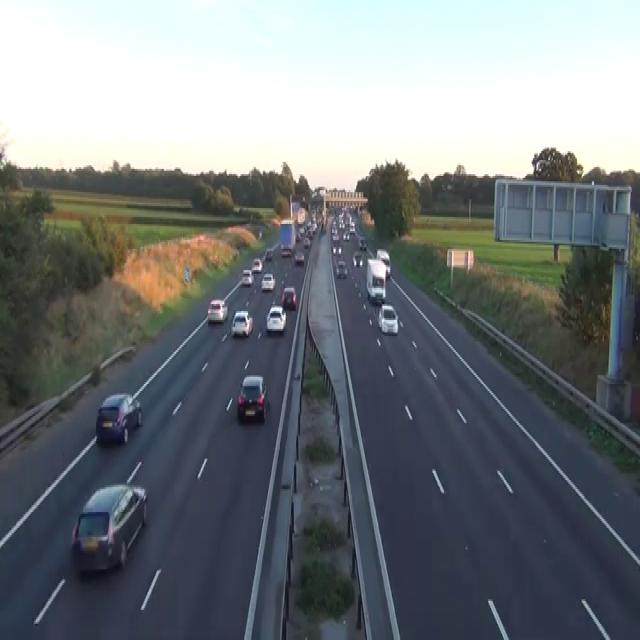Car: (71, 482, 148, 574), (95, 393, 142, 444), (237, 374, 267, 422), (231, 309, 253, 338), (377, 304, 398, 334), (266, 304, 286, 332), (207, 298, 227, 324), (282, 286, 296, 310), (260, 272, 275, 290), (335, 260, 347, 278), (241, 268, 253, 284), (272, 292, 283, 308), (352, 250, 362, 266), (251, 258, 262, 272), (294, 251, 304, 265), (280, 244, 291, 256), (331, 230, 339, 243), (385, 263, 391, 279), (359, 236, 366, 249), (265, 247, 272, 260), (271, 217, 280, 226), (349, 222, 355, 235), (335, 245, 342, 256), (303, 237, 310, 247), (343, 231, 349, 242), (295, 231, 300, 242), (332, 246, 337, 254), (258, 230, 262, 238)
Truck: (366, 258, 386, 304), (279, 219, 295, 256), (376, 247, 391, 277)
